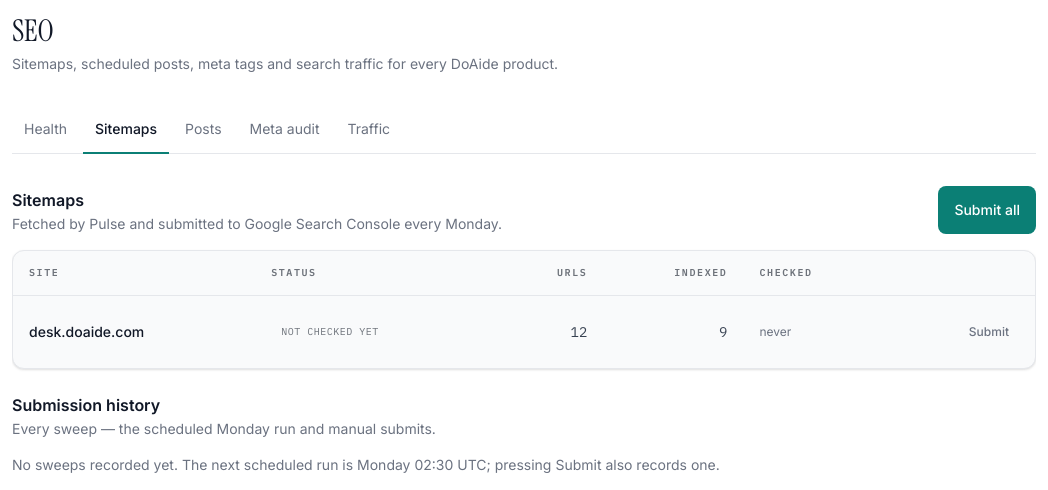
Test case: SEO page — sitemaps › submits one site and shows the answer
Click the button with aria-label "Submit desk.doaide.com": point(989, 332) [959,308,1019,356]
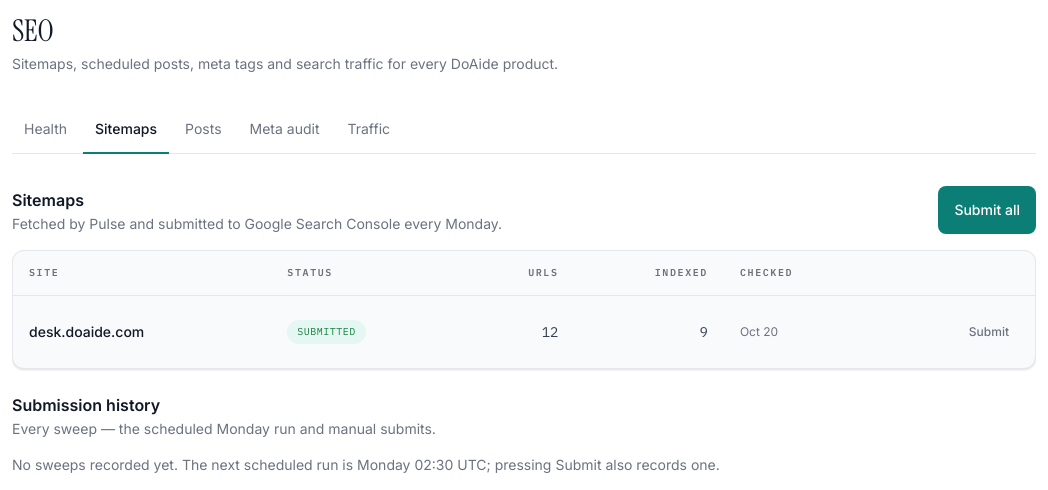
Expected: the text "Submitted" is shown, [287,320,366,344]
